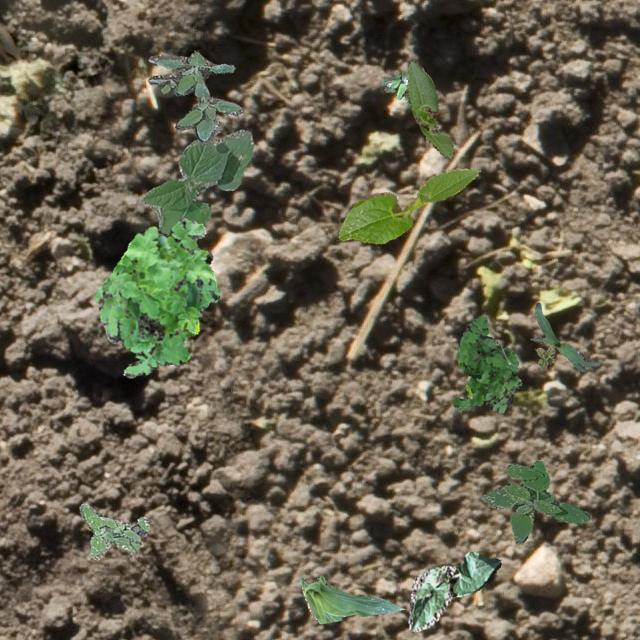crop: (140, 128, 252, 234), (338, 168, 480, 242), (406, 550, 501, 632), (298, 574, 402, 622), (530, 302, 600, 371), (406, 61, 452, 158)
weed: (94, 216, 218, 376), (479, 459, 588, 544), (148, 49, 242, 142), (450, 314, 520, 412), (78, 502, 148, 562), (381, 70, 408, 106), (534, 346, 554, 368)
